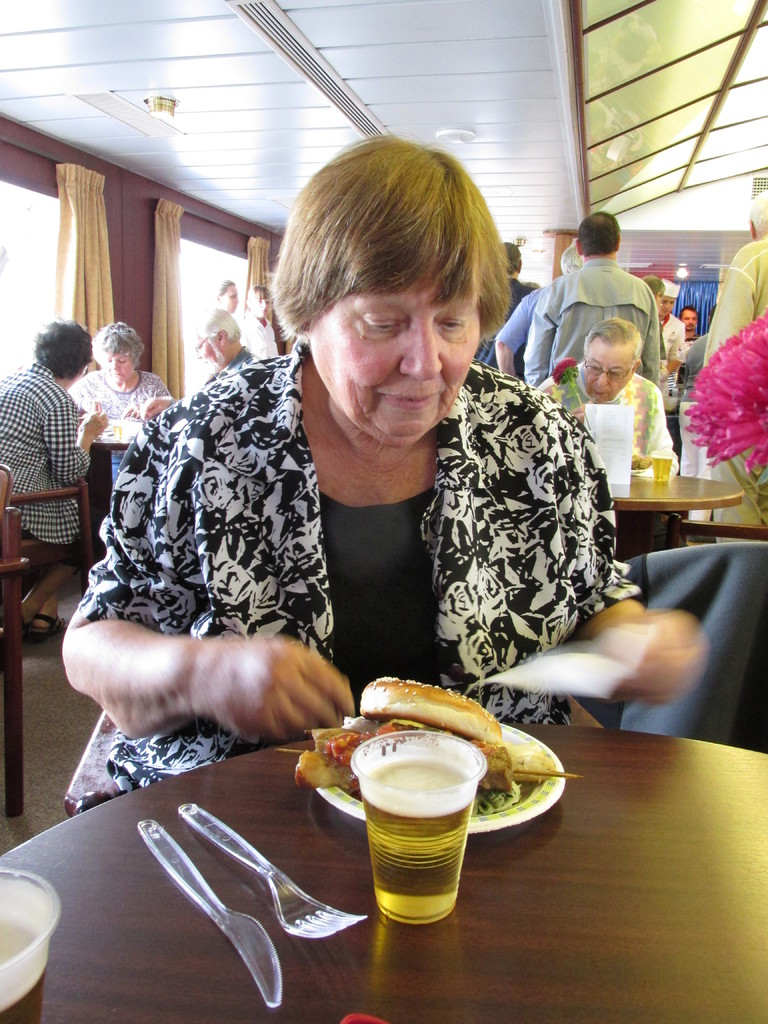Beer: (366, 756, 474, 926)
